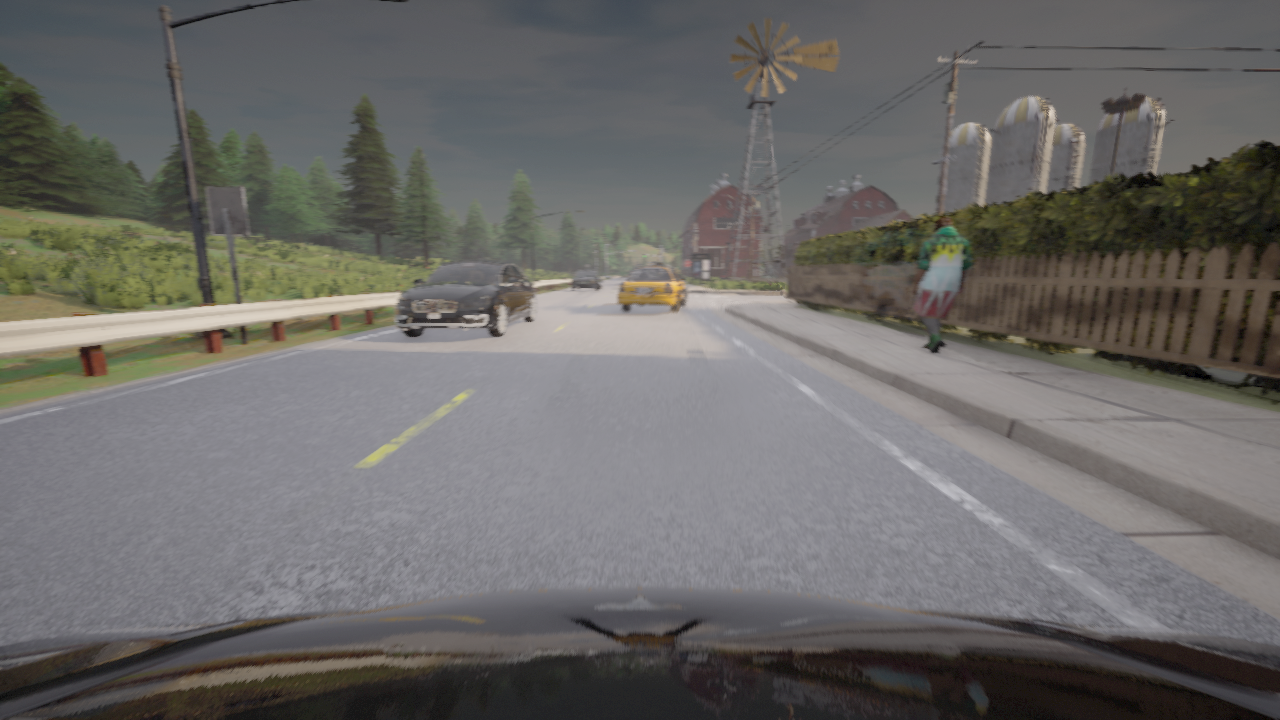cyclist: (0, 588, 1279, 719), (395, 259, 536, 336), (618, 262, 687, 311), (571, 267, 602, 291)
pedestrian: (911, 216, 971, 352)
